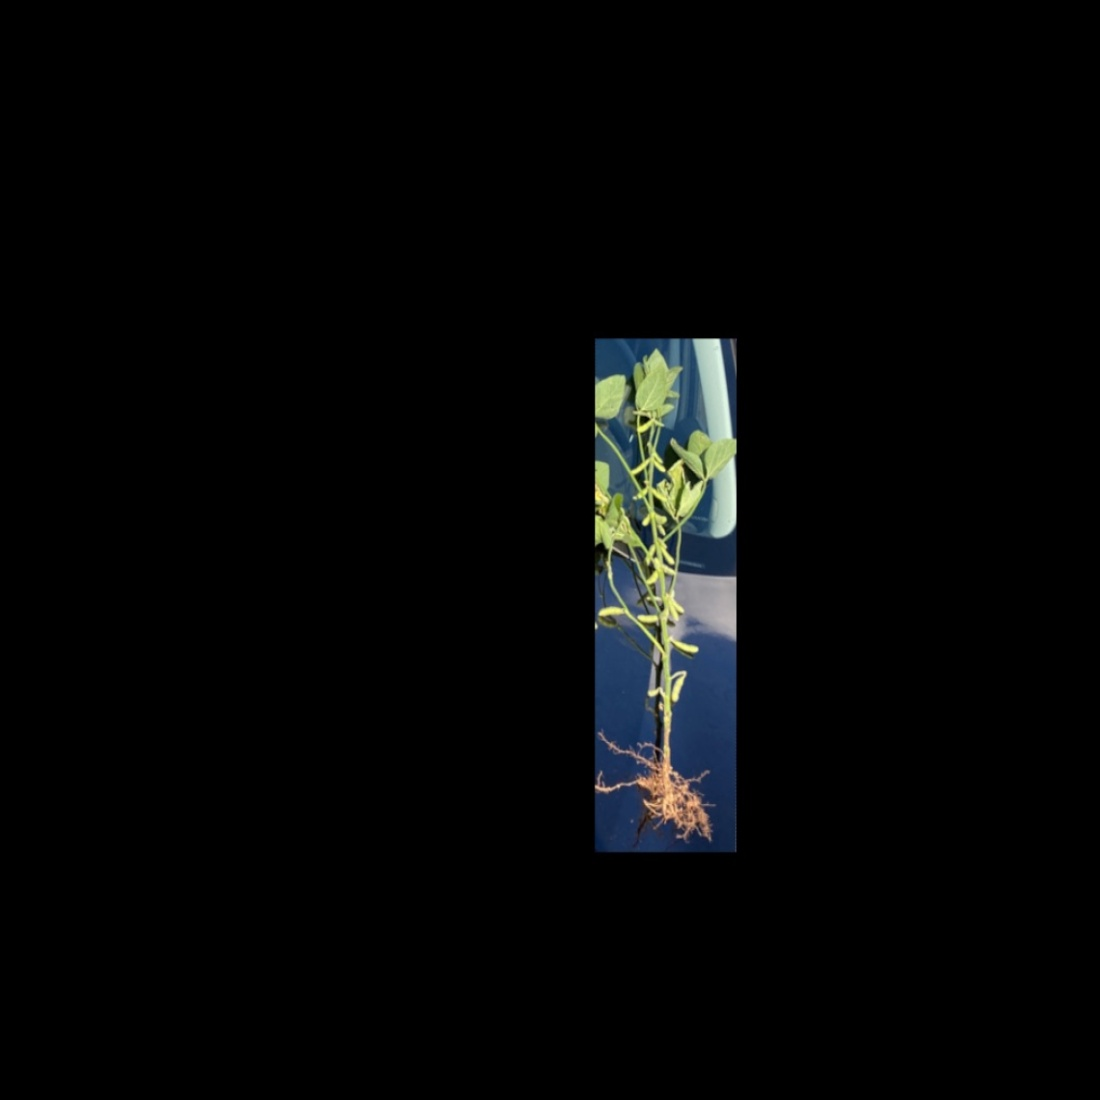pod: (670, 635, 702, 658), (653, 539, 677, 569), (669, 672, 687, 704), (626, 457, 651, 476), (597, 603, 627, 618), (634, 416, 655, 434), (650, 457, 668, 477), (633, 612, 662, 625)
soy: (597, 353, 736, 834)
